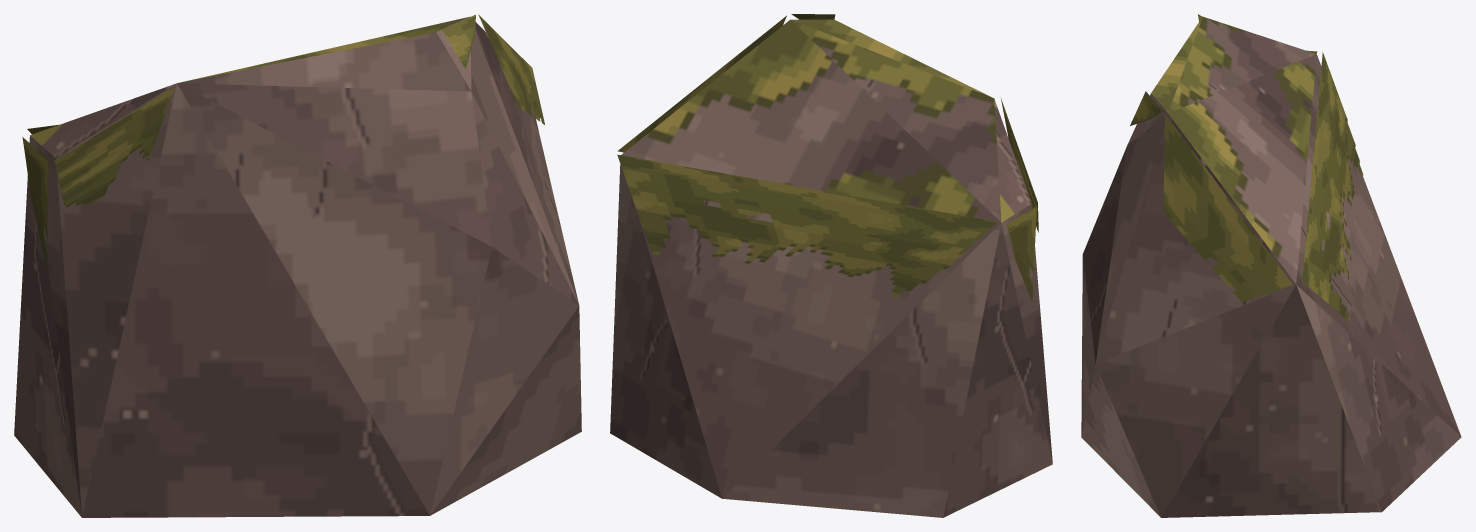
File: SM_RK02_BoulderMedium.fbx
3 views of the same model, side by side, from view 1: azimuth 30°, elevation 25°; view 2: azimuth 150°, elevation 25°; view 3: azimuth 270°, elevation 25° (orthographic). The views are drawn at different scales.
Visible parts, largest first — view 1: RK02_Rock, RK02_Moss, RK02_RockTop; view 2: RK02_Rock, RK02_RockTop, RK02_Moss; view 3: RK02_Rock, RK02_RockTop, RK02_Moss.
Part boxes in pixels (x1,y1,x2,y2): RK02_Rock: [14, 16, 581, 517]; RK02_Moss: [22, 14, 544, 271]; RK02_RockTop: [30, 17, 468, 158]; RK02_Rock: [610, 164, 1052, 517]; RK02_RockTop: [621, 19, 1031, 222]; RK02_Moss: [617, 14, 1038, 301]; RK02_Rock: [1081, 54, 1461, 517]; RK02_RockTop: [1151, 16, 1316, 283]; RK02_Moss: [1130, 14, 1363, 320].
Bounding box in the file's own units: 1.13 × 0.9583 × 0.9.
